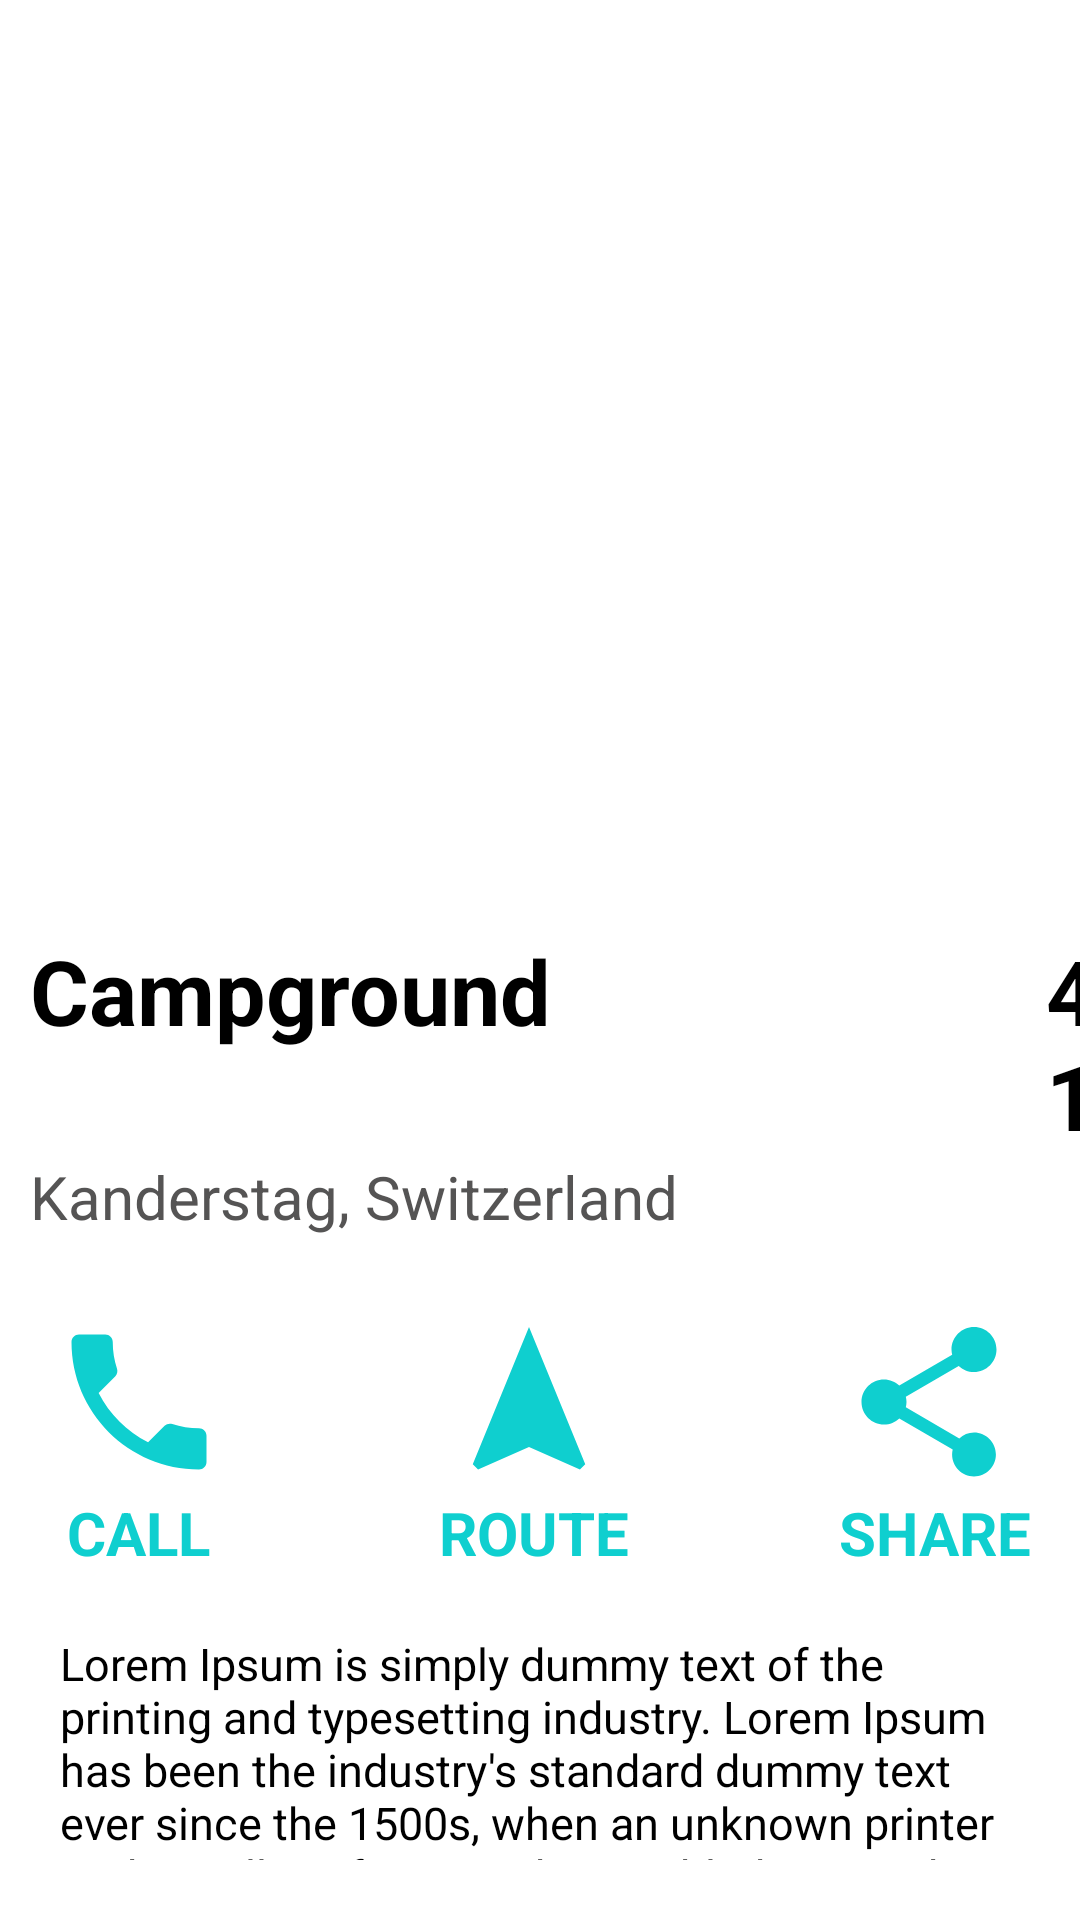

Named icons in this screenshot (1080px×1920px) and their centers, (x,y):
navigation: (529,1398)
